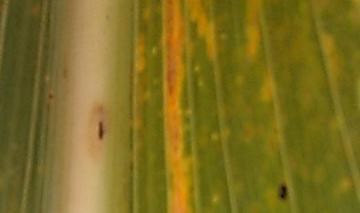tarspot: (96, 121, 104, 141), (279, 185, 287, 200), (46, 92, 54, 100)
